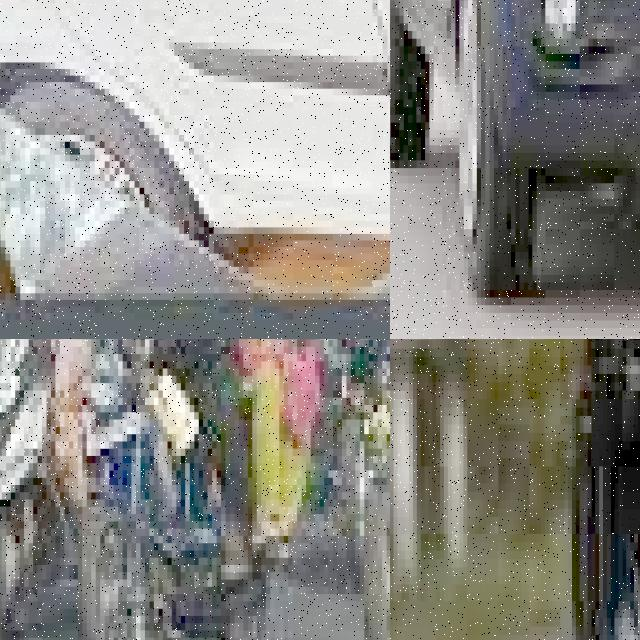bike: (59, 339, 310, 640), (529, 339, 640, 640), (0, 339, 60, 640)
car: (0, 0, 390, 273), (390, 0, 640, 282)
